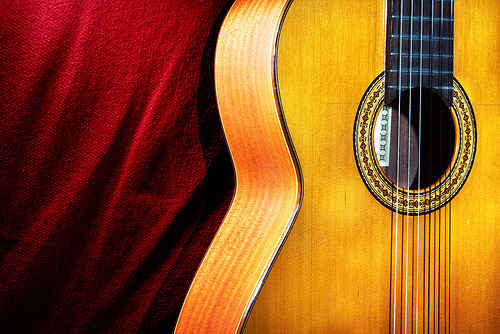guitar: (168, 1, 500, 334)
